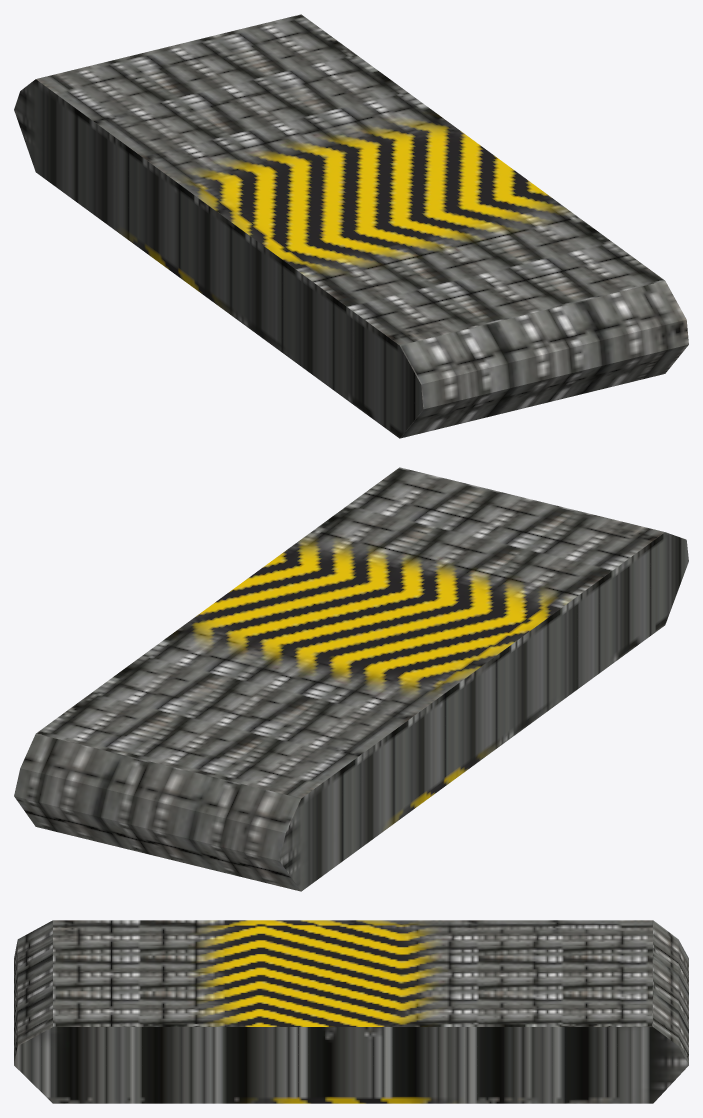
File: Conveyor.fbx
3 renders of one model, top to bottom at view 1: azimuth 30°, elevation 25°; view 2: azimuth 150°, elevation 25°; view 3: azimuth 270°, elevation 25°, orthographic. The views are drawn at different scales.
Parts seen in each view (by area): view 1: Cube; view 2: Cube; view 3: Cube.
Boxes of the visible parts, x1,y1,x2,y2 form: Cube: (14, 14, 688, 438); Cube: (14, 467, 688, 891); Cube: (14, 920, 688, 1103).
Size of the model in its own units: 597 by 200 by 1593.
